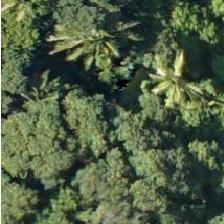coconut_tree: (121, 38, 211, 128), (45, 0, 135, 72)
